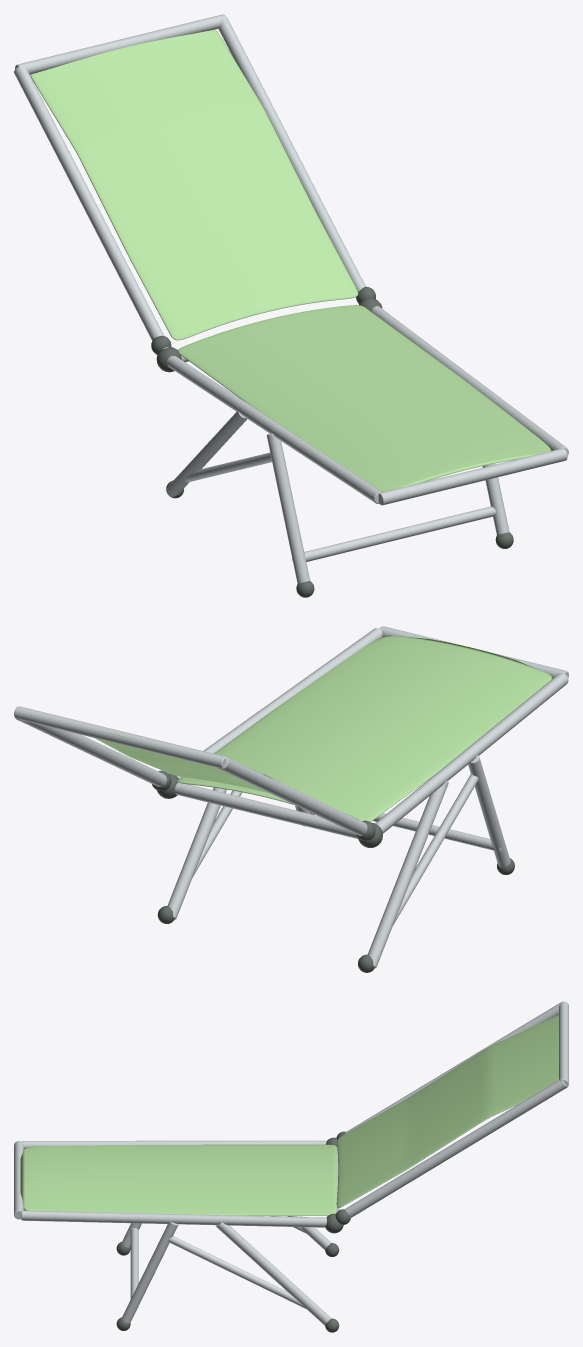
File: SILLAblend.fbx
3 views of the same model, one above another, from view 1: azimuth 30°, elevation 25°; view 2: azimuth 150°, elevation 25°; view 3: azimuth 270°, elevation 25° (orthographic). The views are drawn at different scales.
Visible parts, largest first — view 1: Respaldo reclinable verde, Asiento de tela verde, Soporte respaldo Derecha.001, Larguero derecho del asiento.001, Soporte respaldo Derecha, Travesaño superior respaldo.001, Travesaño superior respaldo, Travesaño inferior, Larguero derecho del asiento, Pata delantera Derecha.001, Pata trasera Derecha.001, Brazo articulado Derecha.001 (+1 smaller); view 2: Asiento de tela verde, Larguero derecho del asiento.001, Travesaño superior respaldo, Pata trasera Derecha.001, Travesaño posterior, Soporte respaldo Derecha.001, Respaldo reclinable verde, Soporte respaldo Derecha, Larguero derecho del asiento, Pata trasera Derecha, Brazo articulado Derecha.001, Pata delantera Derecha.001 (+3 smaller); view 3: Asiento de tela verde, Respaldo reclinable verde, Larguero derecho del asiento, Soporte respaldo Derecha, Larguero derecho del asiento.001, Pata trasera Derecha, Brazo articulado Derecha, Pata delantera Derecha, Soporte respaldo Derecha.001, Travesaño superior respaldo, Travesaño superior respaldo.001, Travesaño inferior.
Boxes of the visible parts, x1,y1,x2,y2 form: Respaldo reclinable verde: (30, 29, 358, 340); Asiento de tela verde: (178, 305, 551, 491); Soporte respaldo Derecha.001: (14, 66, 168, 348); Larguero derecho del asiento.001: (167, 355, 381, 503); Soporte respaldo Derecha: (218, 16, 365, 291); Travesaño superior respaldo.001: (378, 448, 567, 505); Travesaño superior respaldo: (15, 14, 227, 74); Travesaño inferior: (292, 506, 495, 561); Larguero derecho del asiento: (371, 306, 568, 455); Pata delantera Derecha.001: (266, 433, 309, 583); Pata trasera Derecha.001: (166, 411, 246, 496); Brazo articulado Derecha.001: (185, 452, 271, 482); Asiento de tela verde: (177, 635, 552, 821); Larguero derecho del asiento.001: (375, 673, 568, 833); Travesaño superior respaldo: (14, 706, 226, 768); Pata trasera Derecha.001: (367, 780, 448, 968); Travesaño posterior: (175, 782, 357, 838); Soporte respaldo Derecha.001: (218, 756, 367, 835); Respaldo reclinable verde: (95, 731, 358, 819); Soporte respaldo Derecha: (14, 706, 166, 786); Larguero derecho del asiento: (177, 628, 382, 778); Pata trasera Derecha: (167, 787, 226, 919); Brazo articulado Derecha.001: (392, 774, 478, 926); Pata delantera Derecha.001: (468, 755, 510, 867); Asiento de tela verde: (20, 1144, 336, 1215); Respaldo reclinable verde: (336, 1015, 567, 1207); Larguero derecho del asiento: (21, 1210, 326, 1227); Soporte respaldo Derecha: (344, 1078, 567, 1217); Larguero derecho del asiento.001: (21, 1140, 326, 1147); Pata trasera Derecha: (216, 1222, 331, 1325); Brazo articulado Derecha: (168, 1236, 306, 1309); Pata delantera Derecha: (122, 1222, 178, 1323); Soporte respaldo Derecha.001: (336, 1002, 561, 1139); Travesaño superior respaldo: (559, 1001, 568, 1086); Travesaño superior respaldo.001: (14, 1141, 23, 1219); Travesaño inferior: (130, 1228, 138, 1309).
Bounding box in the file's own units: 36 × 50.19 × 100.
